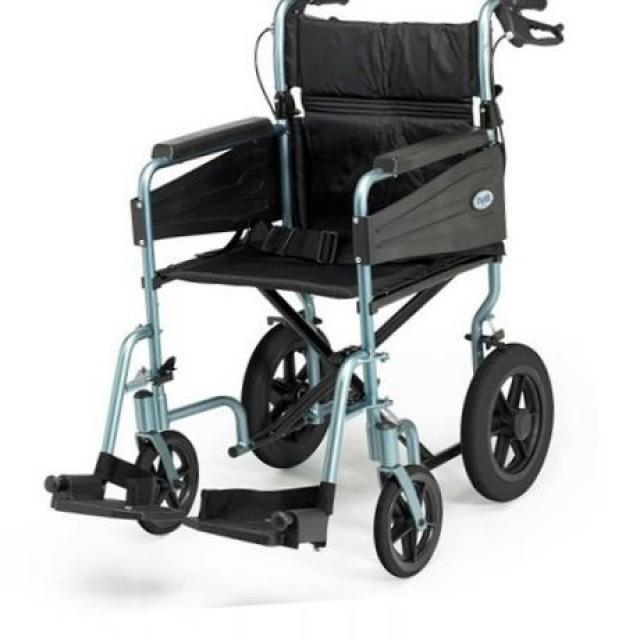wheelchair: (26, 0, 588, 585)
